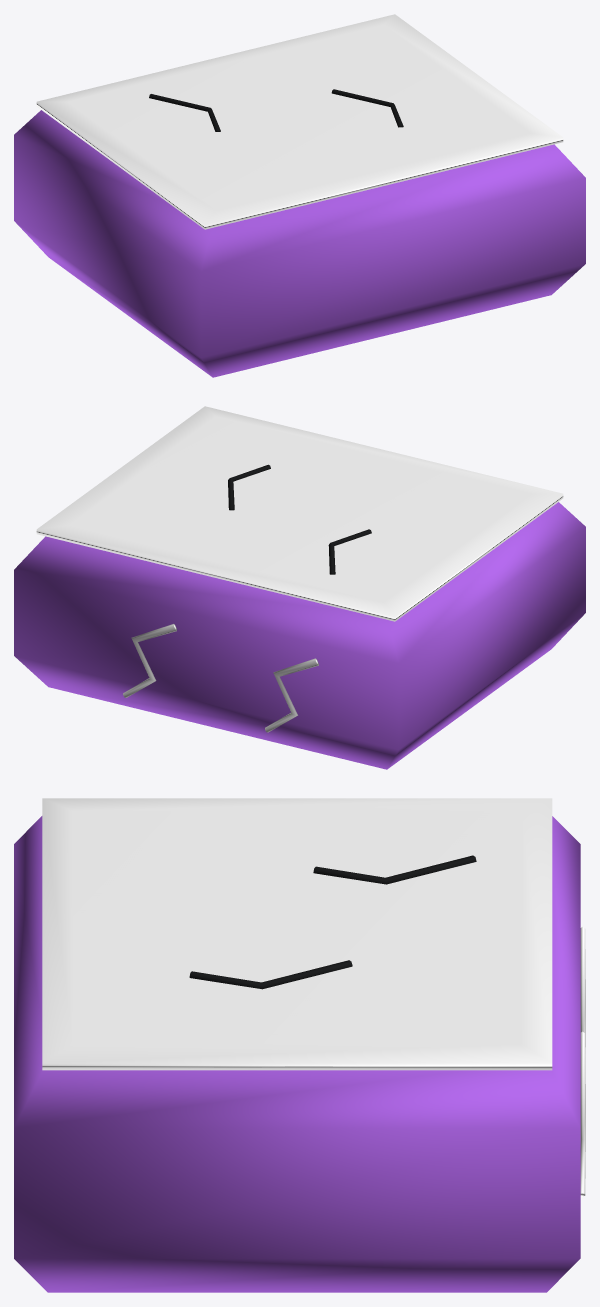
File: IceBlock.glb
3 views of the same model, one above another, from view 1: azimuth 30°, elevation 25°; view 2: azimuth 150°, elevation 25°; view 3: azimuth 270°, elevation 25° (orthographic). The views are drawn at different scales.
Parts seen in each view (by area): view 1: Body, Frost, Cracks; view 2: Body, Frost, Cracks; view 3: Body, Frost, Cracks.
Part boxes in pixels (x1=…): Body: x1=14, y1=110, x2=585, y2=377; Frost: x1=36, y1=14, x2=563, y2=229; Cracks: x1=149, y1=89, x2=403, y2=131; Body: x1=14, y1=502, x2=585, y2=769; Frost: x1=36, y1=406, x2=563, y2=621; Cracks: x1=123, y1=464, x2=371, y2=732; Body: x1=14, y1=816, x2=580, y2=1292; Frost: x1=42, y1=798, x2=552, y2=1070; Cracks: x1=189, y1=855, x2=585, y2=1196.
Size of the model in its own units: 1.06 by 0.4261 by 0.9046.
1 material, 1 textured.
